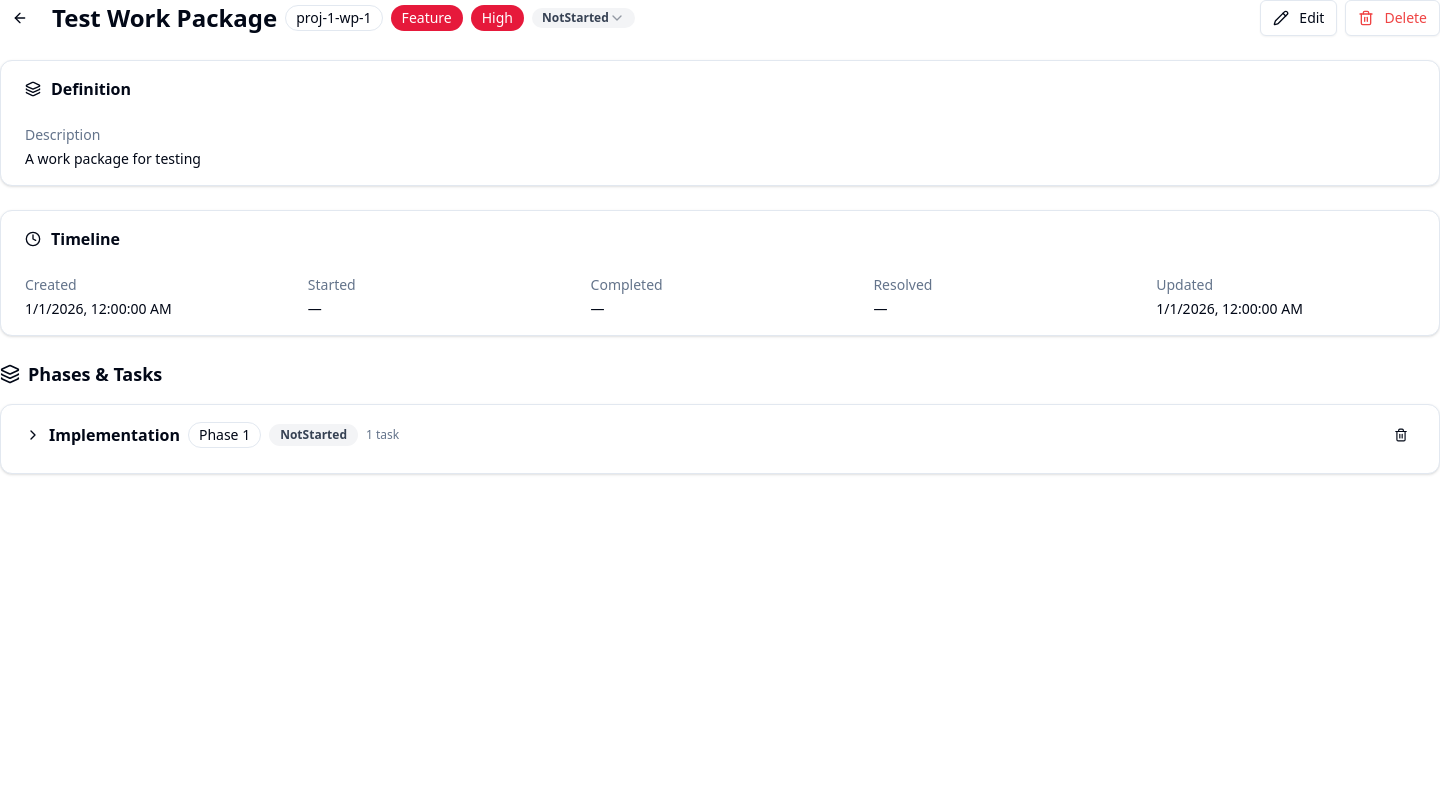
it: WorkPackageDetailPage › closes delete dialog on Escape key
expect the heading "Test Work Package" is shown: met, box top-left (52, 2), bottom-right (277, 34)
Click the button "Delete": (1393, 18) top-left (1345, 0), bottom-right (1439, 36)
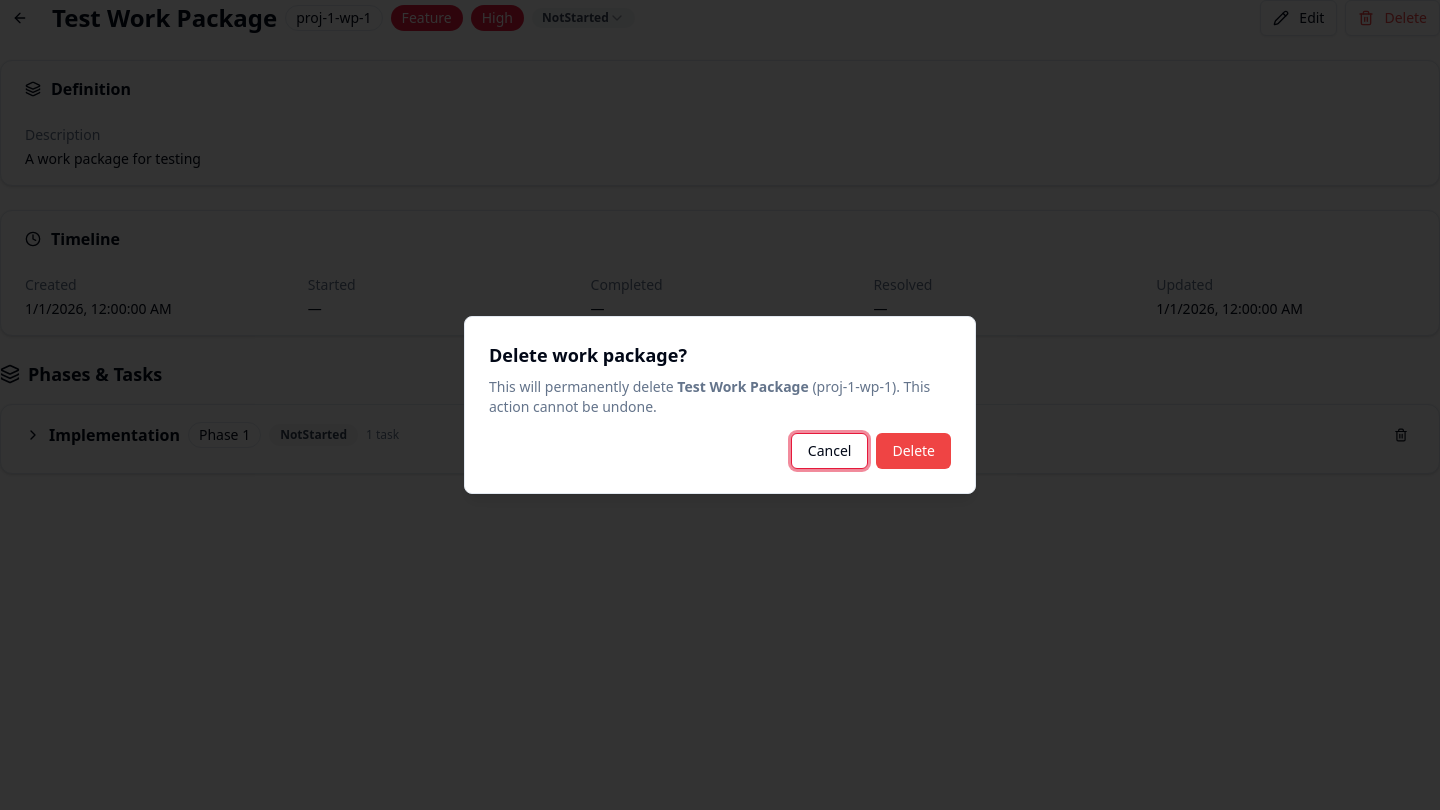
expect the heading "Delete work package?" is shown: met, box top-left (489, 343), bottom-right (687, 367)
Press Escape
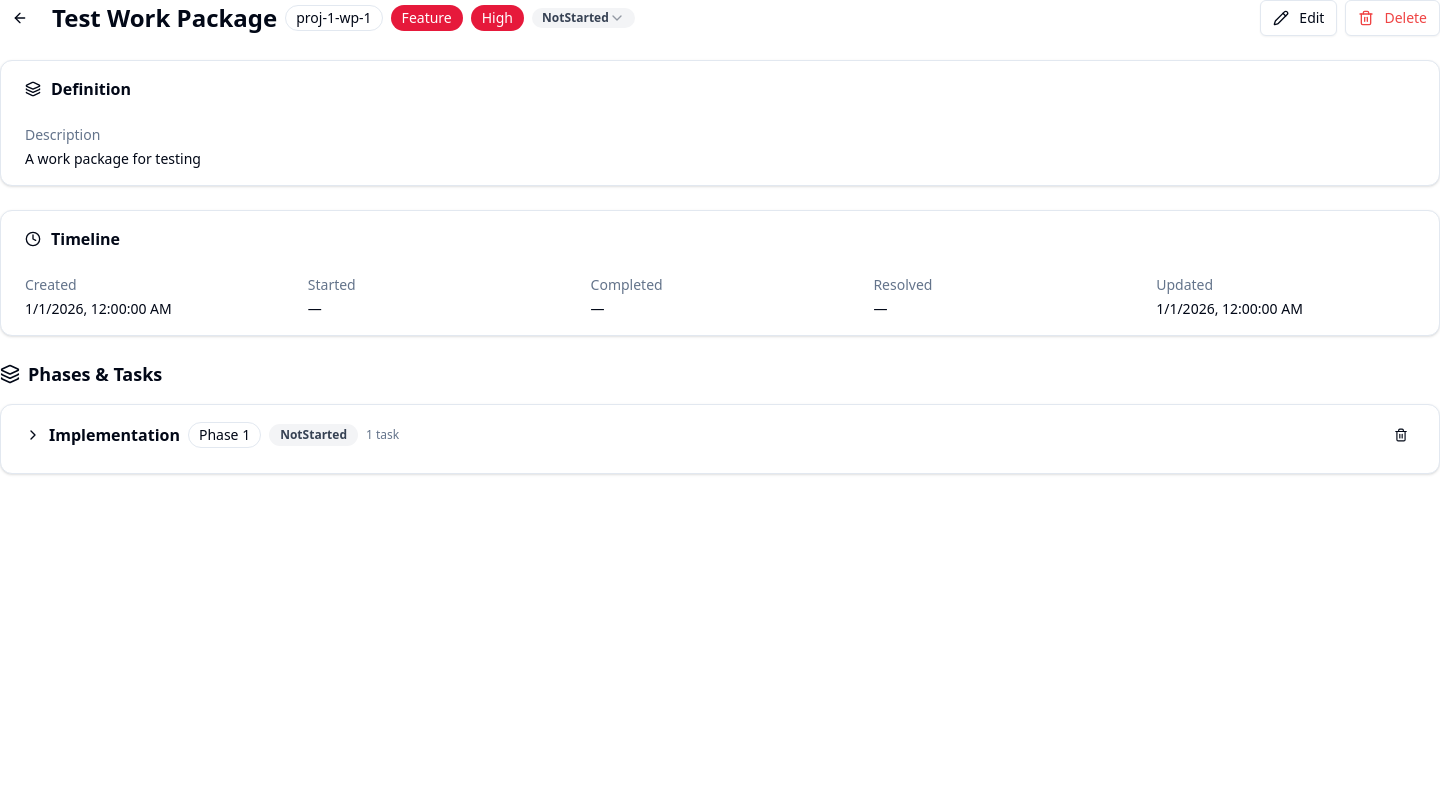
expect the heading "Delete work package?" is gone: met
